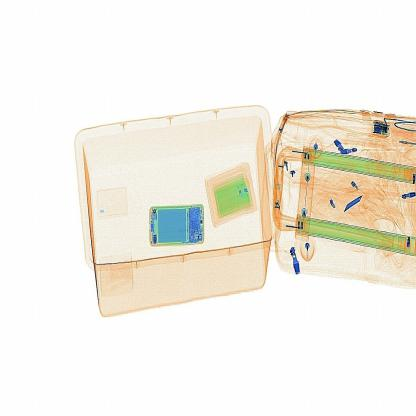pliers: (338, 187, 375, 222)
